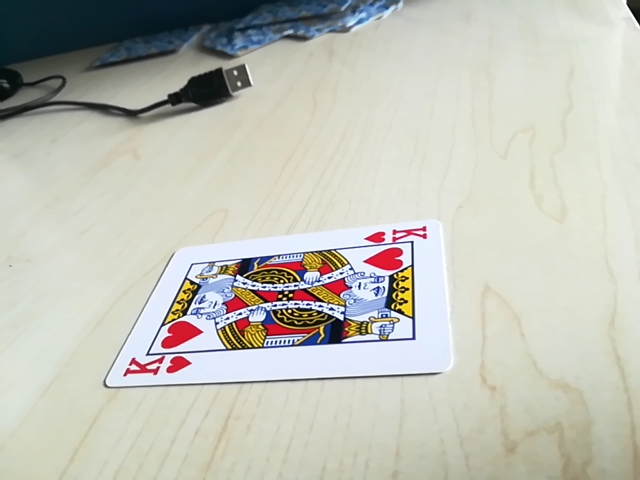hx k: (118, 354, 197, 383), (363, 224, 431, 249)
